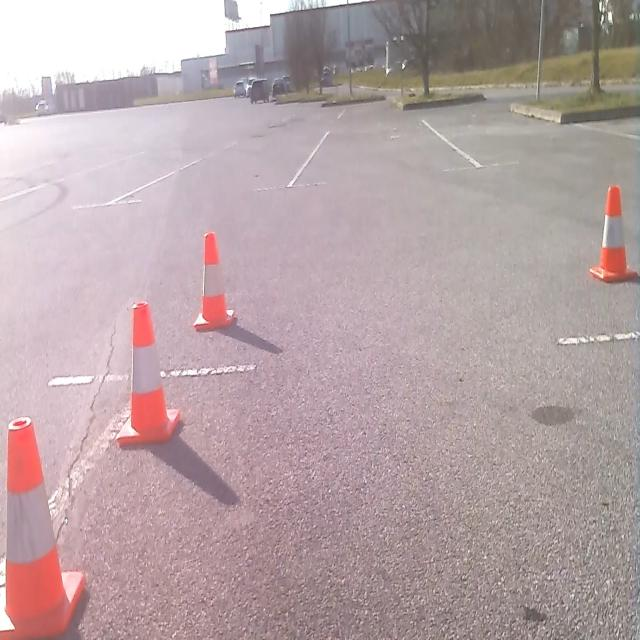orange_cone: (1, 413, 86, 637), (115, 298, 182, 448), (588, 182, 638, 284), (192, 229, 236, 332)
